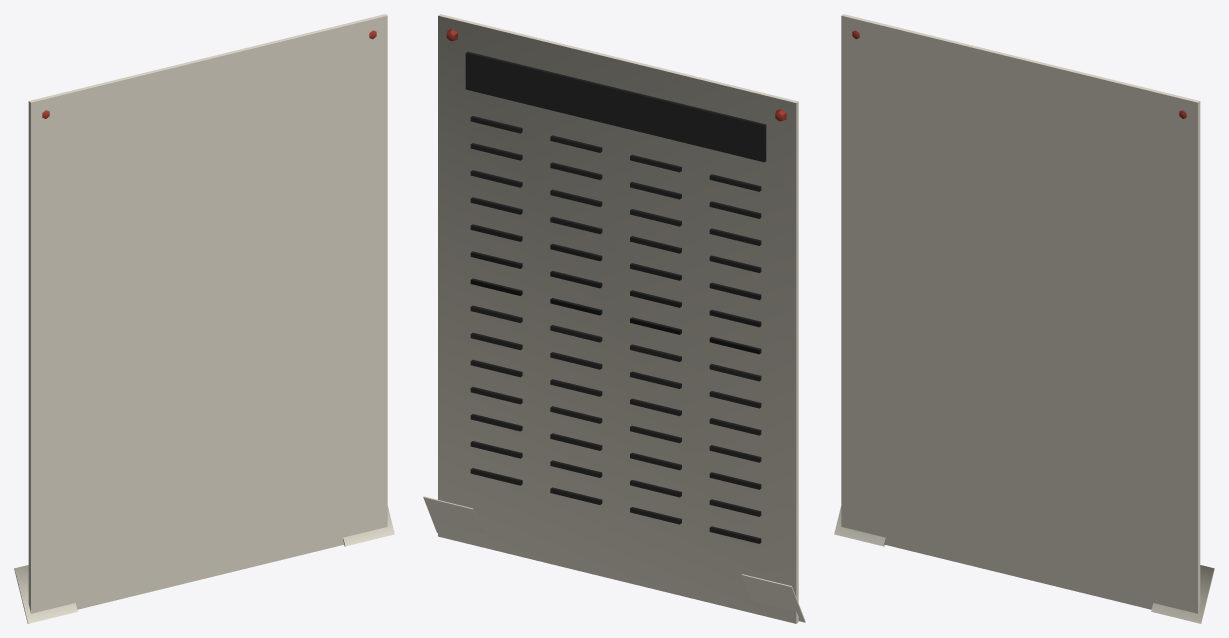
Rendered from timetable.glb.
3 renders of one model, left to right at view 1: azimuth 30°, elevation 25°; view 2: azimuth 150°, elevation 25°; view 3: azimuth 330°, elevation 25°, orthographic.
Parts seen in each view (by area): view 1: static; view 2: static; view 3: static.
Part boxes in pixels (bbox=[...]): static: bbox=[14, 14, 394, 623]; static: bbox=[423, 14, 805, 623]; static: bbox=[834, 14, 1214, 623].
Bounding box in the file's own units: 0.37 × 0.5004 × 0.0248.
